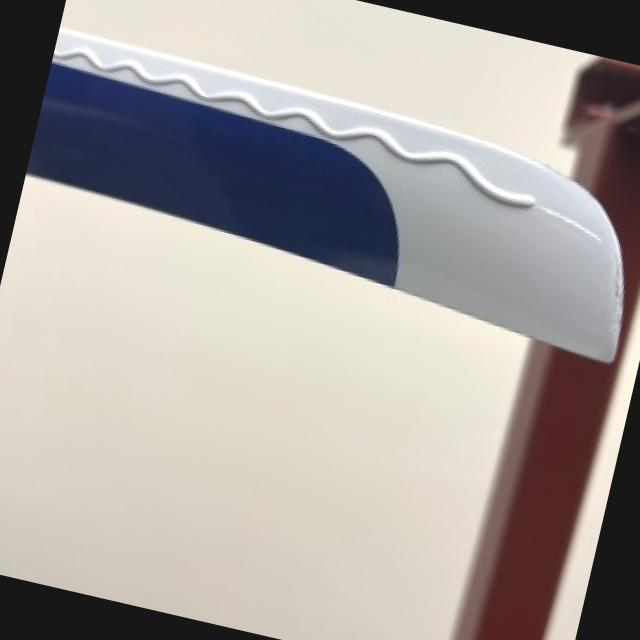healthy: (0, 204, 490, 640), (26, 30, 621, 359)
